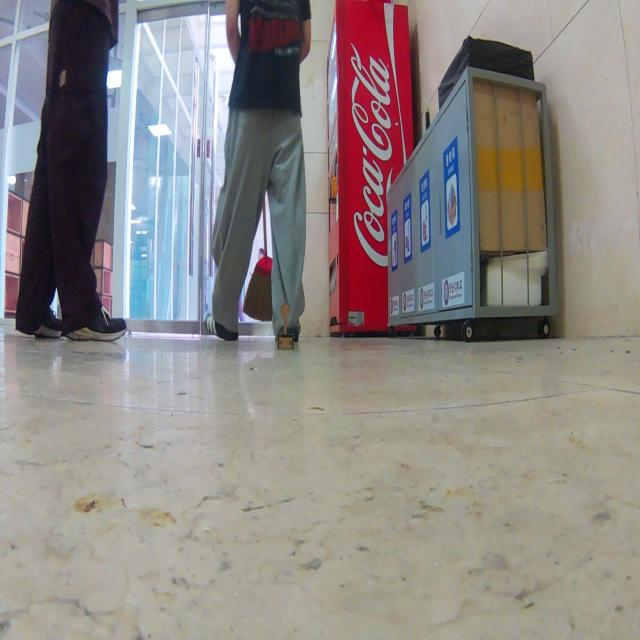target: (277, 302, 294, 350)
